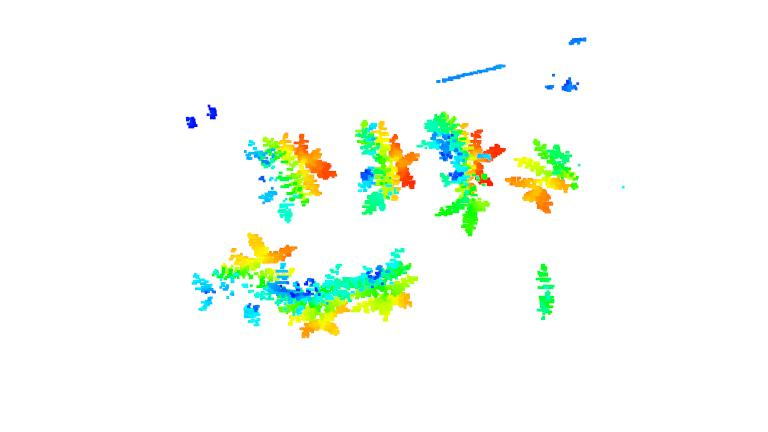chickpea: (189, 231, 300, 328), (418, 111, 504, 236), (245, 129, 339, 224), (353, 117, 423, 217), (274, 263, 354, 340), (506, 137, 581, 214), (347, 246, 417, 322), (535, 260, 559, 321)
